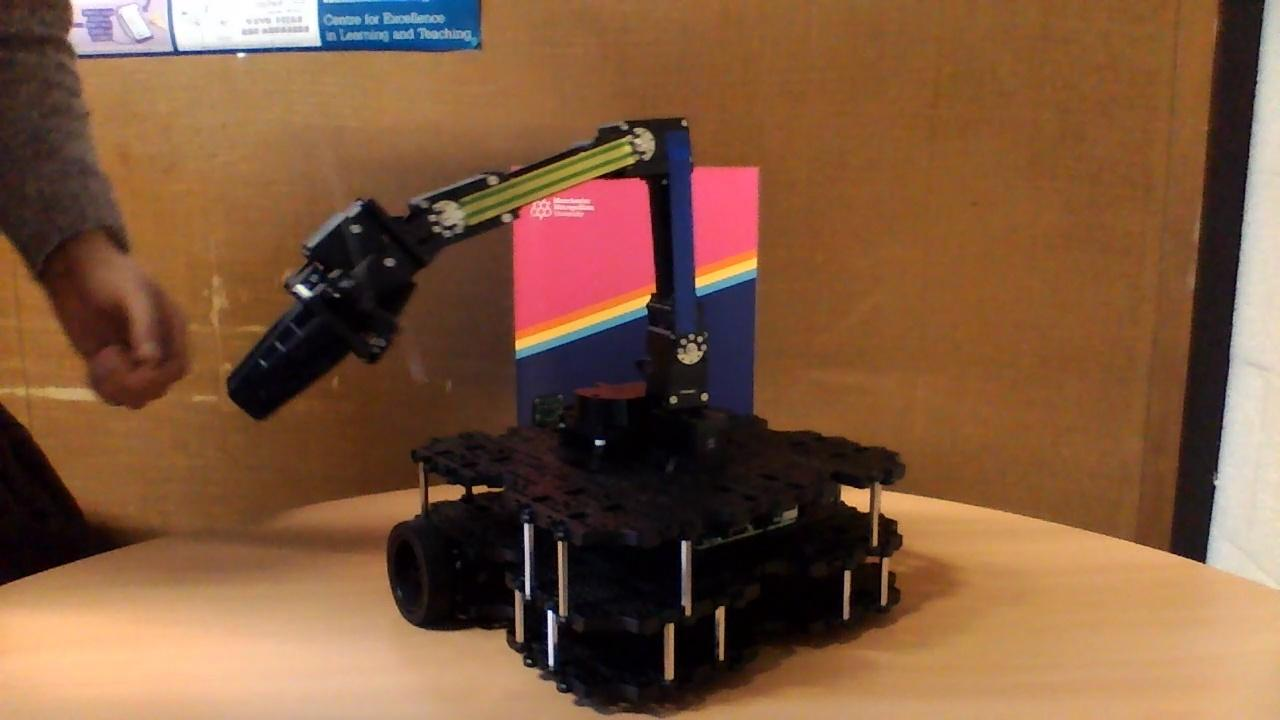Arm: (641, 115, 711, 375)
Hand: (222, 191, 464, 426)
Wrist: (422, 121, 654, 243)
base: (383, 378, 909, 714)
